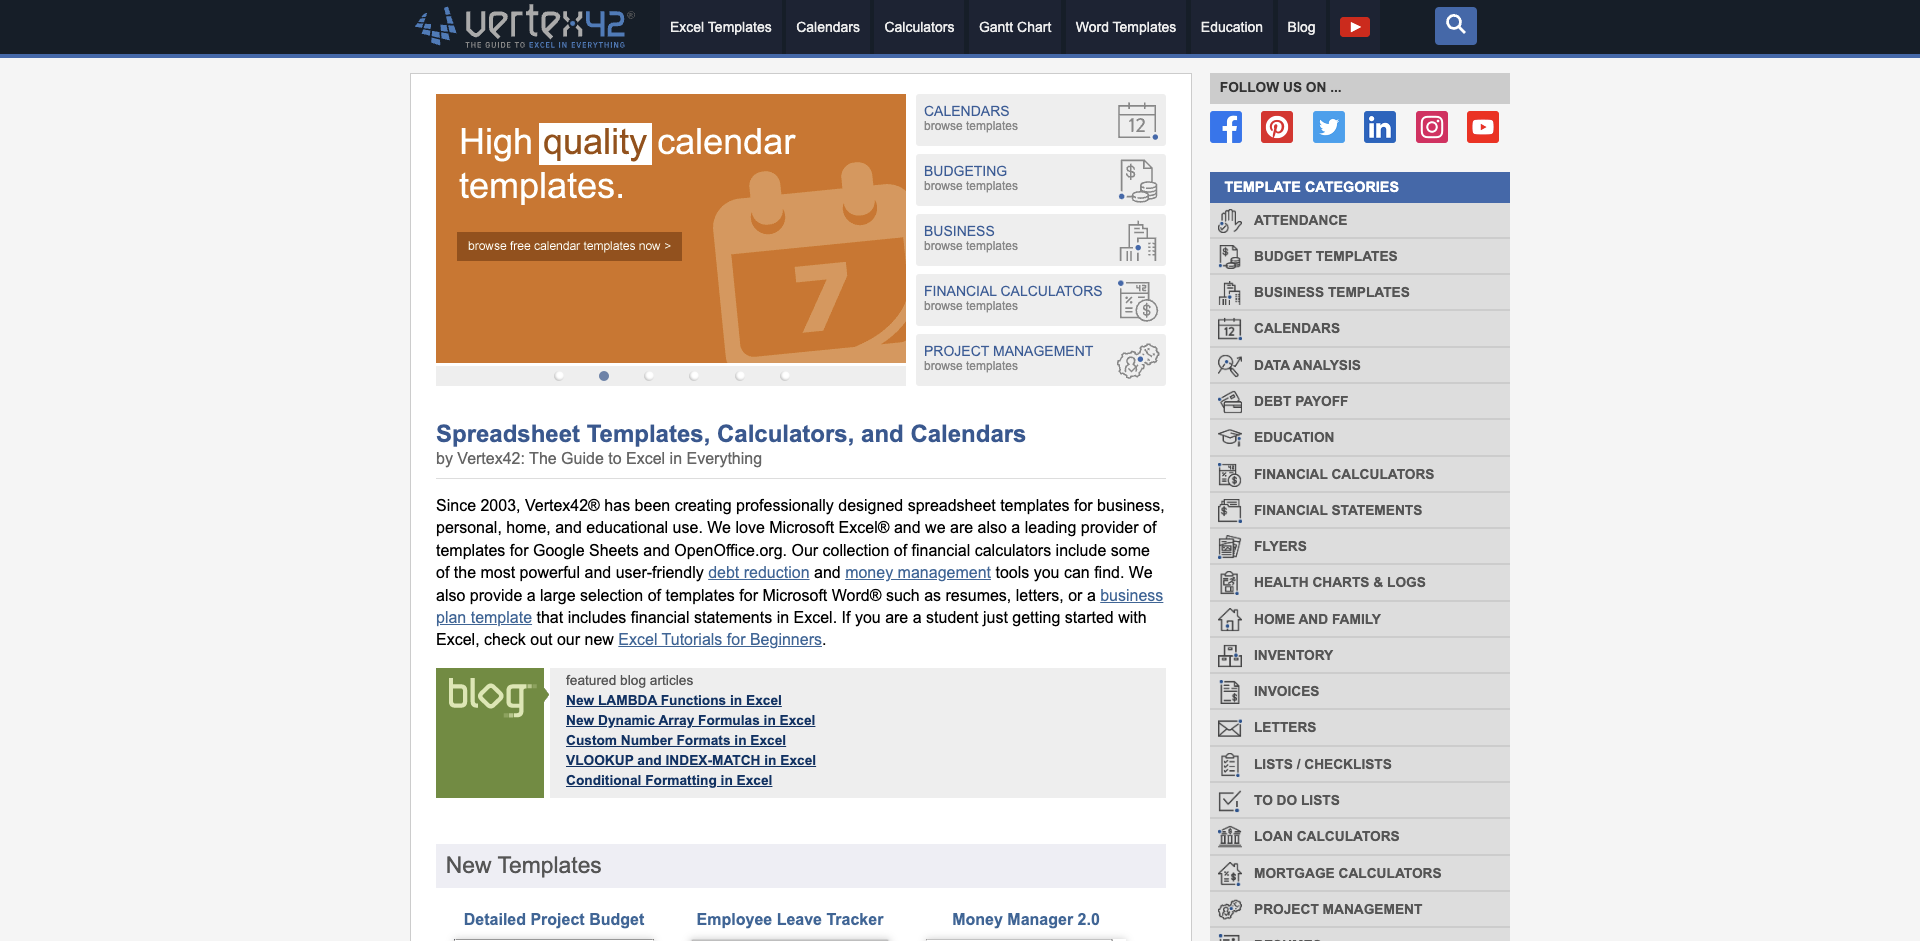button: (1435, 7, 1477, 45)
link: (436, 587, 1163, 626), (1210, 202, 1510, 236), (1210, 239, 1510, 273), (1210, 276, 1510, 310), (1210, 311, 1510, 346), (1210, 348, 1510, 382), (1210, 384, 1510, 418), (1210, 420, 1510, 455), (1210, 457, 1510, 491), (1210, 493, 1510, 527), (1210, 529, 1510, 564), (1210, 565, 1510, 599), (1210, 602, 1510, 636), (1210, 638, 1510, 673), (1210, 674, 1510, 708), (1210, 711, 1510, 745), (1210, 746, 1510, 780), (1210, 783, 1510, 817), (1210, 820, 1510, 854), (1210, 855, 1510, 890), (1210, 892, 1510, 926), (916, 94, 1166, 134), (916, 154, 1166, 194), (916, 214, 1166, 252), (916, 274, 1166, 312), (916, 334, 1166, 372), (566, 692, 1161, 708), (566, 752, 1161, 768), (566, 713, 1161, 728), (566, 733, 1161, 747), (566, 773, 1161, 788), (436, 349, 906, 366), (660, 0, 781, 54), (1065, 0, 1187, 54), (926, 910, 1127, 941), (454, 910, 654, 941), (691, 910, 890, 941), (969, 0, 1062, 54), (874, 0, 965, 54), (786, 0, 869, 54), (1191, 0, 1273, 54), (415, 34, 636, 51), (1210, 929, 1510, 941), (618, 631, 822, 648), (1330, 0, 1380, 54), (1277, 0, 1326, 54), (845, 564, 991, 581), (708, 564, 809, 581), (1210, 110, 1242, 142), (1261, 110, 1293, 142), (1313, 110, 1344, 142), (1364, 110, 1396, 142), (1416, 110, 1447, 142), (1467, 110, 1499, 142)
